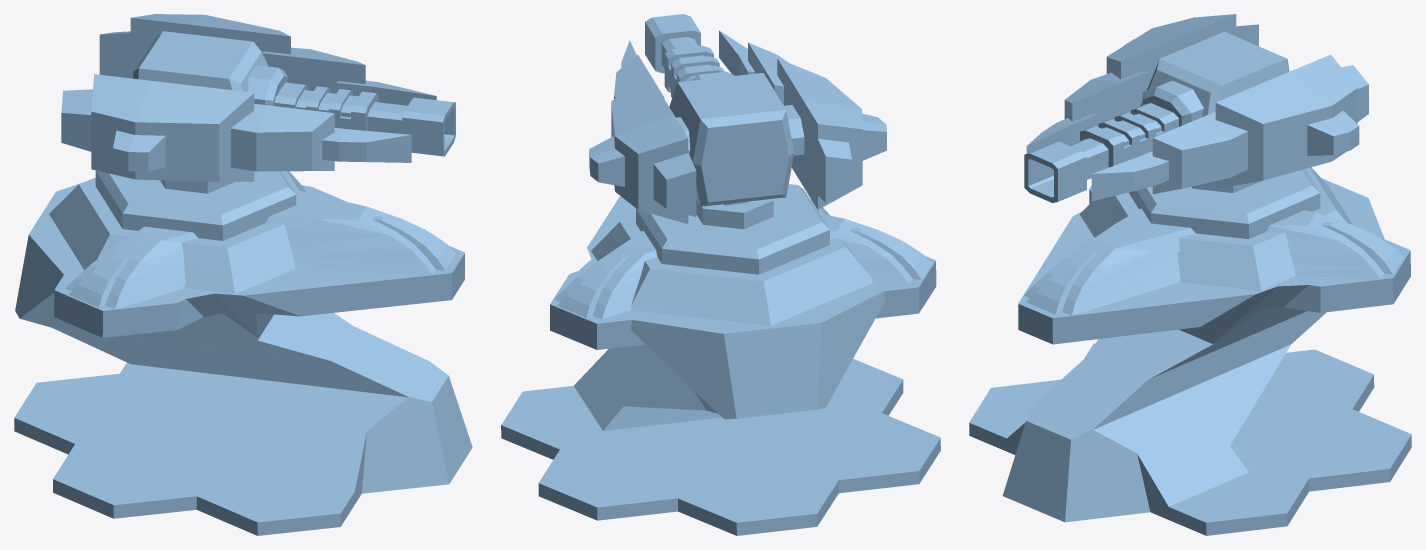
File: SM_bld_NEWturrel_cannon.fbx
The picture shows the model from 3 angles, left to right: view 1: azimuth 30°, elevation 25°; view 2: azimuth 150°, elevation 25°; view 3: azimuth 270°, elevation 25°; orthographic projection. The views are drawn at different scales.
Parts seen in each view (by area): view 1: TurretMount, base-side, cannon, brakes; view 2: TurretMount, base-side, cannon; view 3: TurretMount, base-side, cannon, brakes.
Boxes of the visible parts, left/top/right/bottom form: TurretMount: left=14, top=170, right=472, bottom=535; base-side: left=61, top=14, right=436, bottom=181; cannon: left=274, top=82, right=455, bottom=156; brakes: left=248, top=65, right=288, bottom=105; TurretMount: left=501, top=184, right=940, bottom=535; base-side: left=589, top=30, right=886, bottom=223; cannon: left=645, top=14, right=724, bottom=97; TurretMount: left=969, top=167, right=1411, bottom=535; base-side: left=1026, top=14, right=1368, bottom=201; cannon: left=1024, top=103, right=1178, bottom=202; brakes: left=1142, top=80, right=1203, bottom=126.
Bounding box in the file's own units: 543 × 502 × 543.
